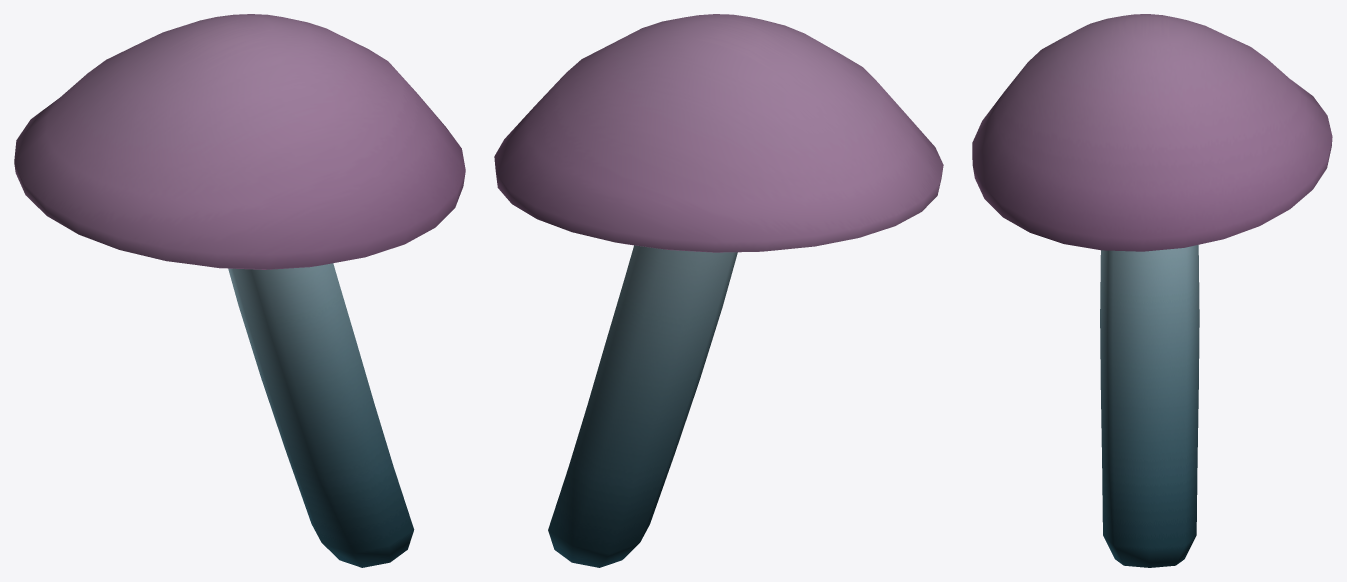
The model's file is TallMushroom1.FBX.
The picture shows the model from 3 angles, left to right: view 1: azimuth 30°, elevation 25°; view 2: azimuth 150°, elevation 25°; view 3: azimuth 270°, elevation 25°; orthographic projection. The views are drawn at different scales.
Visible parts, largest first — view 1: Tall Mushroom 1; view 2: Tall Mushroom 1; view 3: Tall Mushroom 1.
Part boxes in pixels (x1=…): Tall Mushroom 1: x1=14, y1=14, x2=465, y2=567; Tall Mushroom 1: x1=494, y1=14, x2=943, y2=567; Tall Mushroom 1: x1=972, y1=14, x2=1332, y2=567.
Bounding box in the file's own units: 20.98 × 27.87 × 18.97.
1 material, 1 textured.
